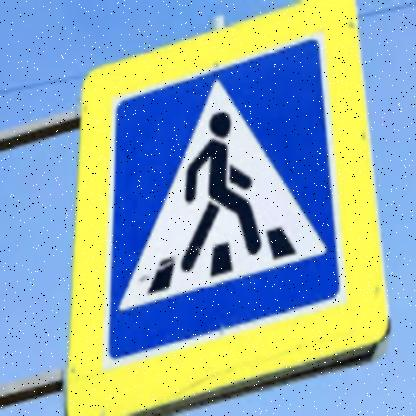Pedestrian Crossing: (115, 43, 334, 342)
